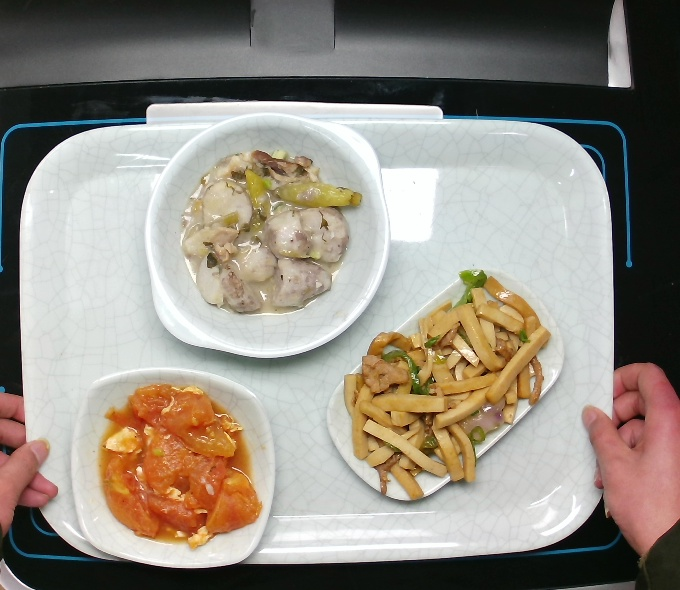wcq-FanQieChaoDan: (91, 381, 265, 552)
wcq-QianYeDouFu: (339, 265, 550, 502)
wcq-YangYu: (181, 147, 367, 317)
